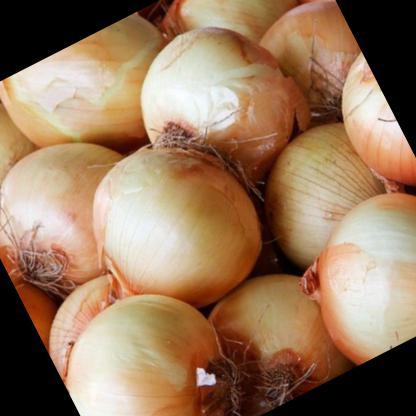onion: (64, 108, 286, 337), (286, 180, 415, 366)
